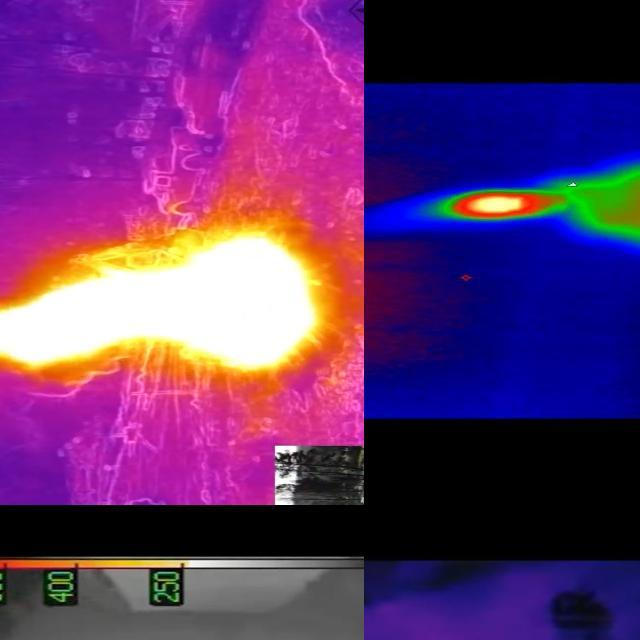fire: (1, 234, 322, 371), (412, 187, 562, 221)
